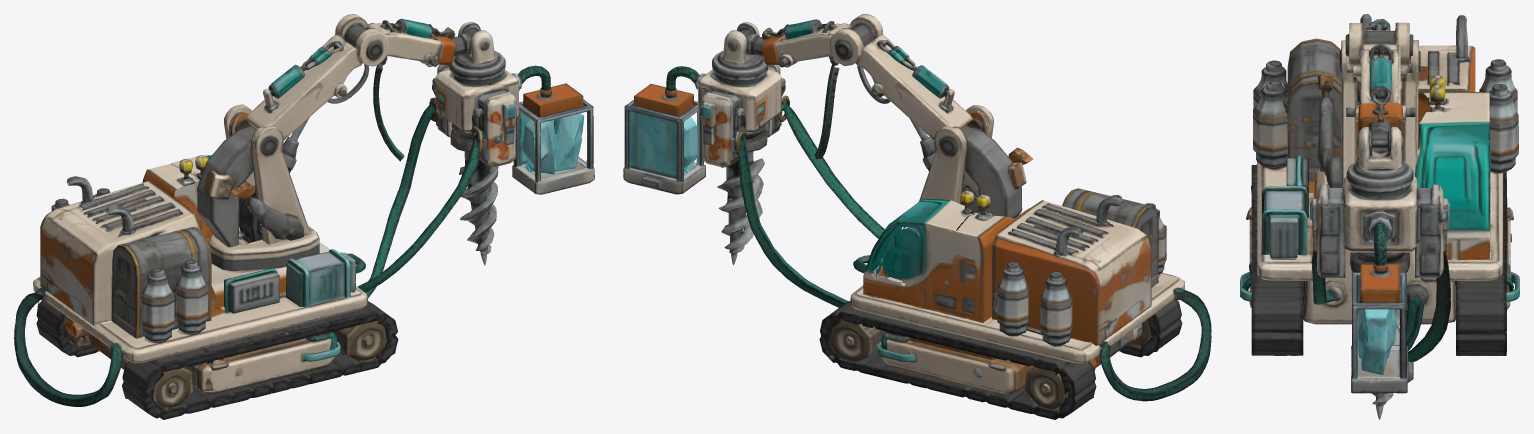
The model's file is burovaya-05.glb.
3 renders of one model, left to right at view 1: azimuth 30°, elevation 25°; view 2: azimuth 150°, elevation 25°; view 3: azimuth 270°, elevation 25°, orthographic. The views are drawn at different scales.
Parts seen in each view (by area): view 1: geometry_0; view 2: geometry_0; view 3: geometry_0.
Part boxes in pixels (x1=…): geometry_0: x1=14, y1=14, x2=594, y2=419; geometry_0: x1=623, y1=14, x2=1211, y2=419; geometry_0: x1=1240, y1=14, x2=1519, y2=419.
Bounding box in the file's own units: 0.9973 × 0.5138 × 0.3694.
Materials: 1 (1 with a texture image).
